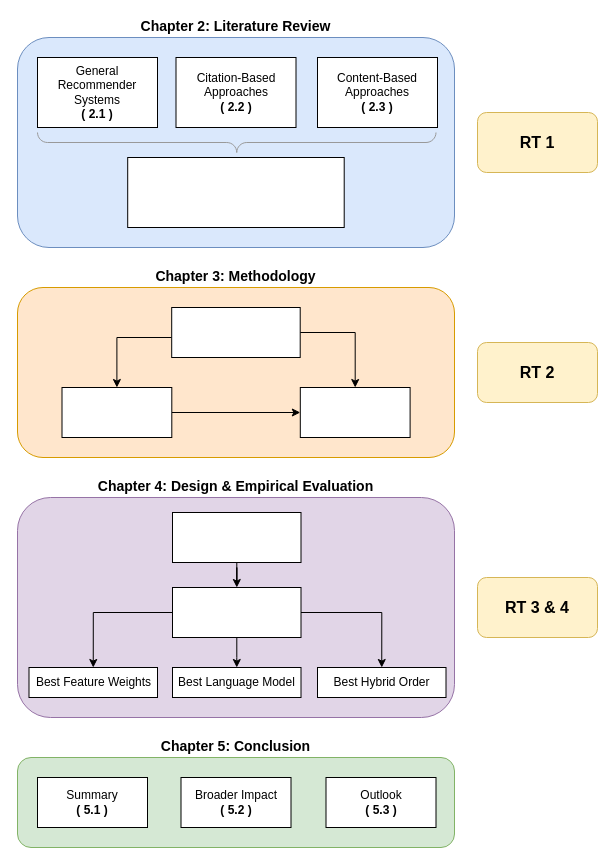
This 615x865 diagram has some shape labels left out. Here are the shapes that lost their labels. From the top down, the centre of each, then its label:
At point (235, 192): "Hybrid Recommender Systems & Thesis Contribution ( 2.4 )".
At point (235, 332): "Dataset Construction ( 3.2 )".
At point (116, 412): "Training ( 3.3 )".
At point (354, 412): "Inference ( 3.4 )".
At point (236, 537): "Evaluation Strategy ( 4.1 )".
At point (236, 612): "Analysis & Discussion ( 4.2 )".
